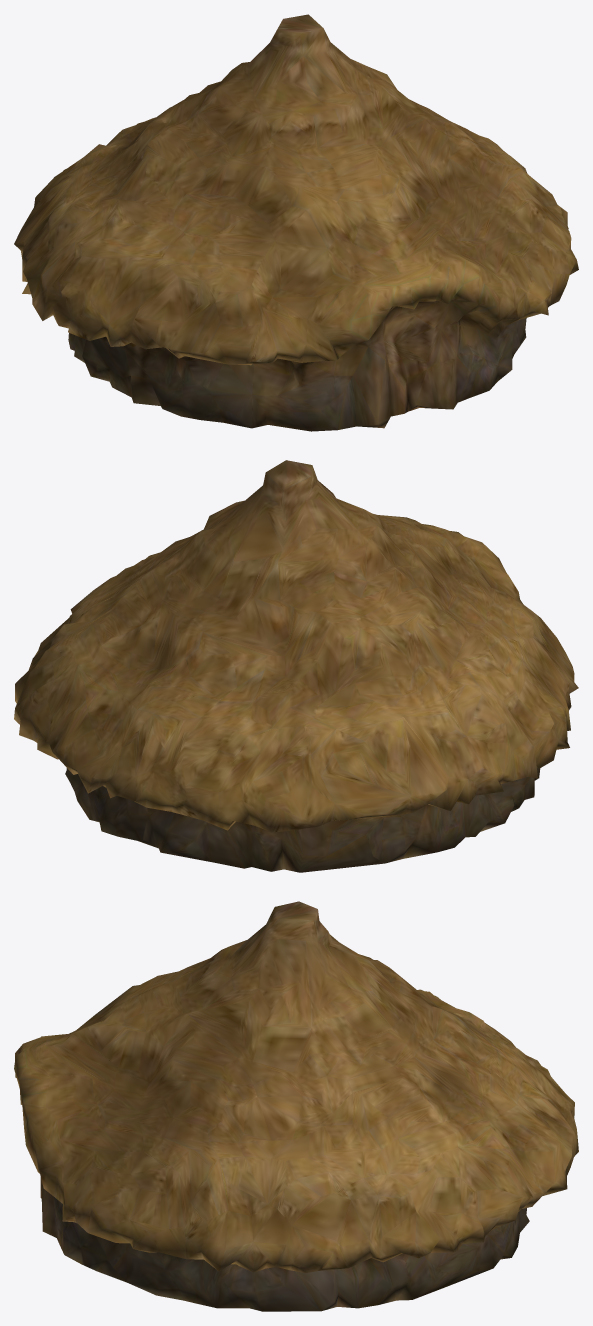
File: house.glb
3 renders of one model, top to bottom at view 1: azimuth 30°, elevation 25°; view 2: azimuth 150°, elevation 25°; view 3: azimuth 270°, elevation 25°, orthographic.
Parts seen in each view (by area): view 1: model; view 2: model; view 3: model.
Part boxes in pixels (x1,y1,x2,y2): model: (14, 14, 578, 431); model: (14, 460, 578, 872); model: (14, 901, 578, 1311).
Size of the model in its own units: 1 by 0.5849 by 0.9739.
Materials: 1 (1 with a texture image).
